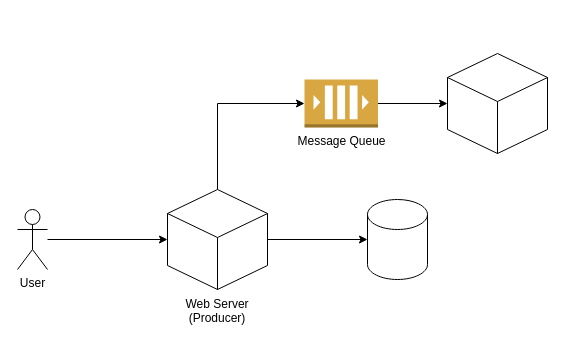
The diagram is 565 pixels wide and 343 high, and some of its shapes have lost their labels. Here are the shapes that lost their labels. From the top down, the centre of each, then its label:
At [497,103]: "Worker Server (consumer)".
At [397,239]: "Database".
